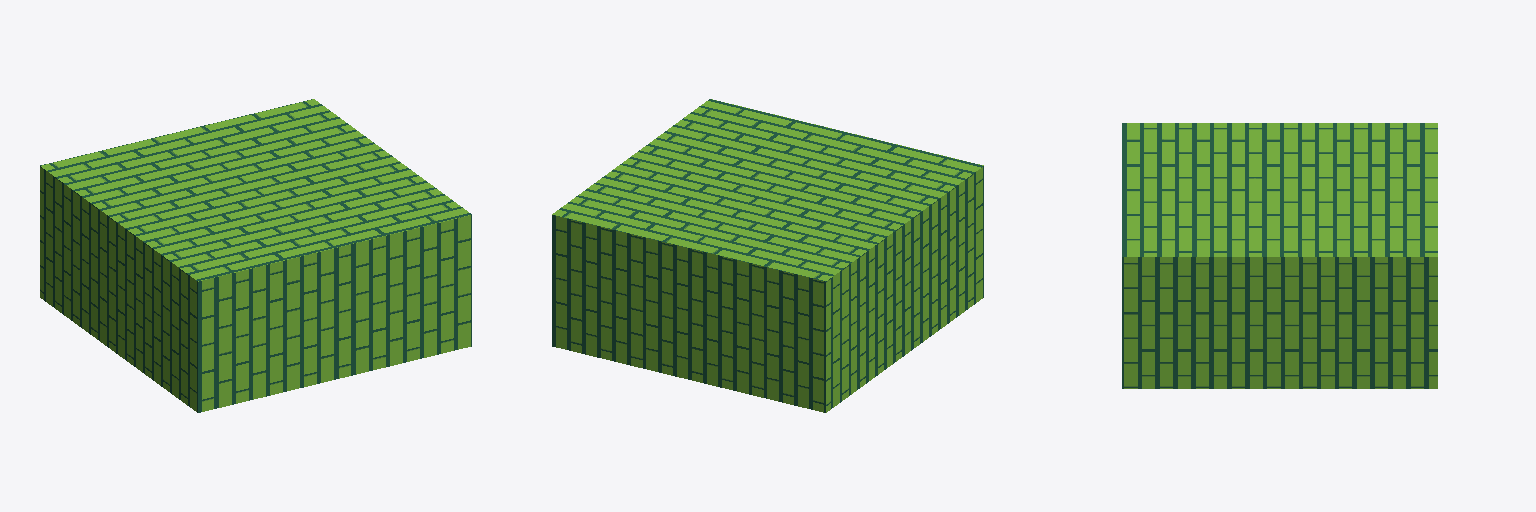
3 views of the same model, side by side, from view 1: azimuth 30°, elevation 25°; view 2: azimuth 150°, elevation 25°; view 3: azimuth 270°, elevation 25° (orthographic).
Visible parts, largest first — view 1: Cube_Cube.001; view 2: Cube_Cube.001; view 3: Cube_Cube.001.
Boxes of the visible parts, <box> form: Cube_Cube.001: <box>40,99,471,412</box>; Cube_Cube.001: <box>552,99,983,412</box>; Cube_Cube.001: <box>1122,123,1437,388</box>.
Bounding box in the file's own units: 6.93 × 3.17 × 6.93.
Materials: 1 (1 with a texture image).